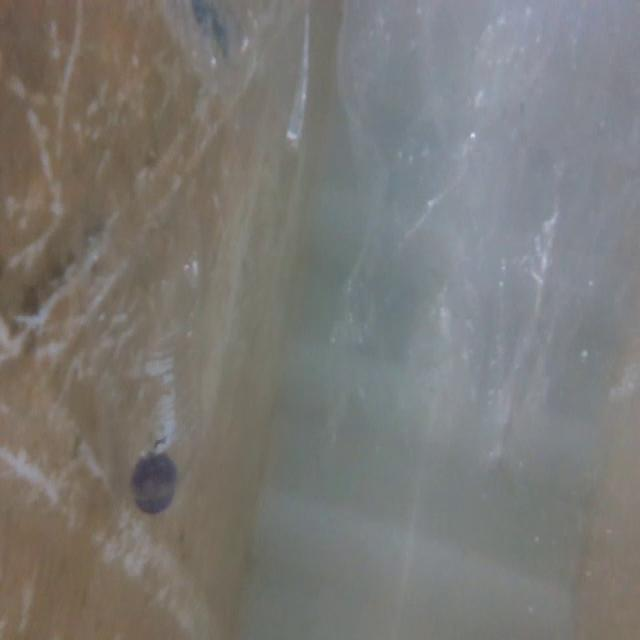plastic bottle: (94, 210, 219, 518)
